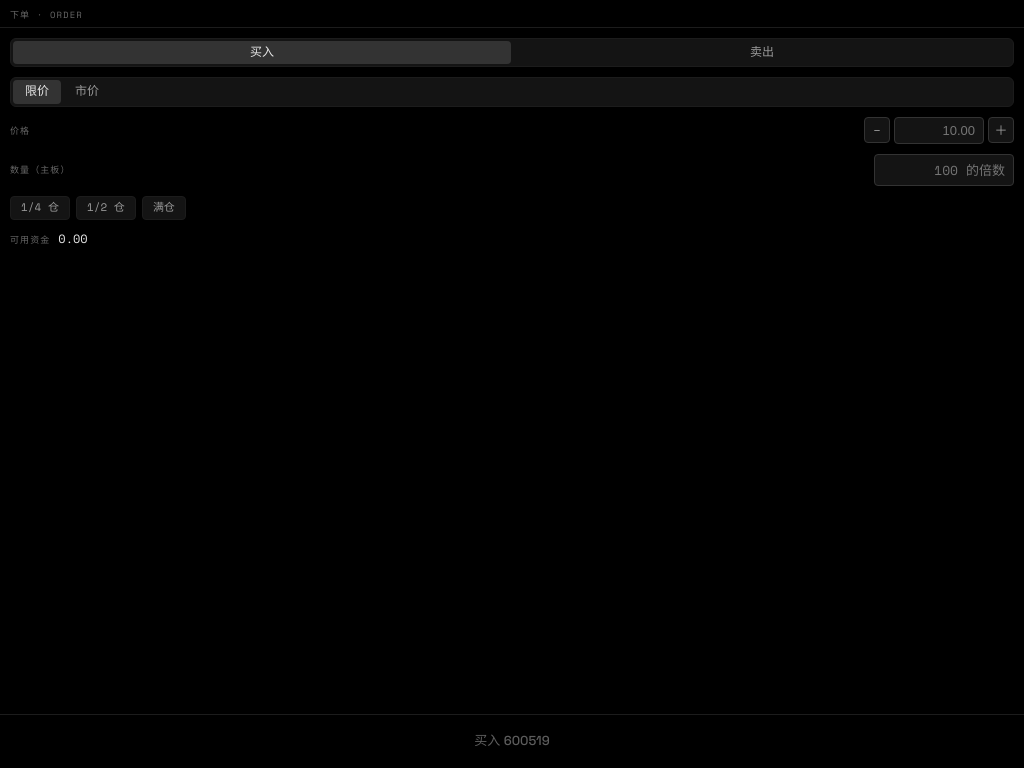
Test: 下单面板（01 §4.7） › 卖出侧：可卖口径扣 T+1 锁定
Click the button "卖出" at (762, 53), box [513,41,1011,64]
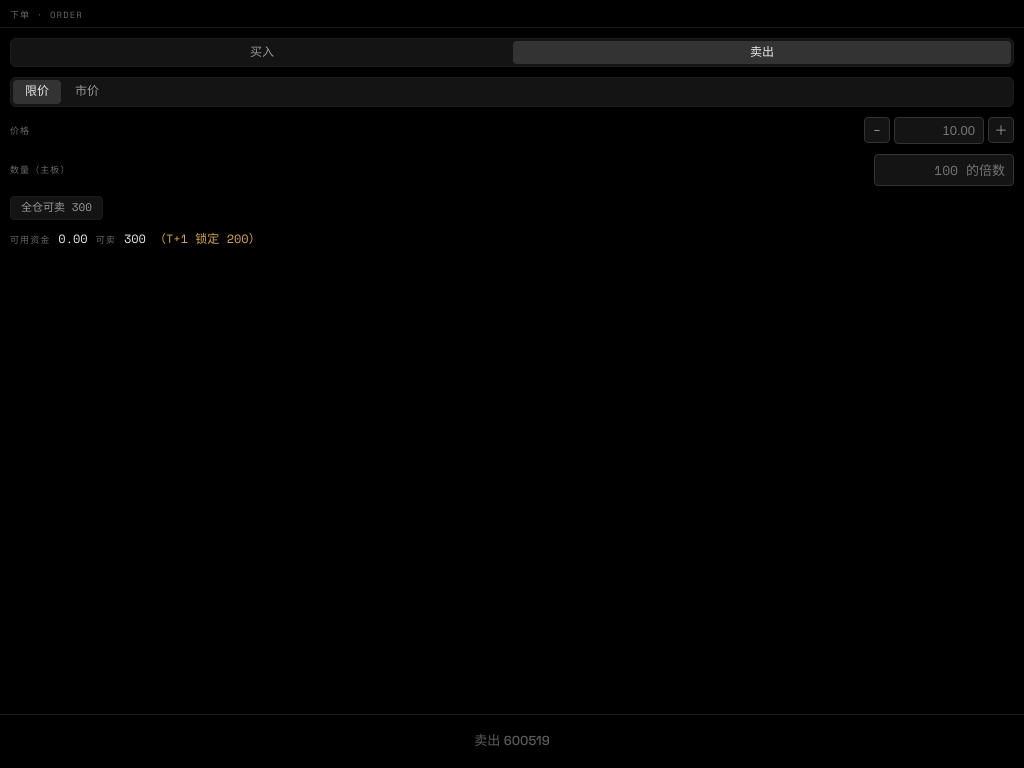
Check: the button "全仓可卖 300" is shown
Click the button "全仓可卖 300" at (56, 208), box [10,196,103,220]
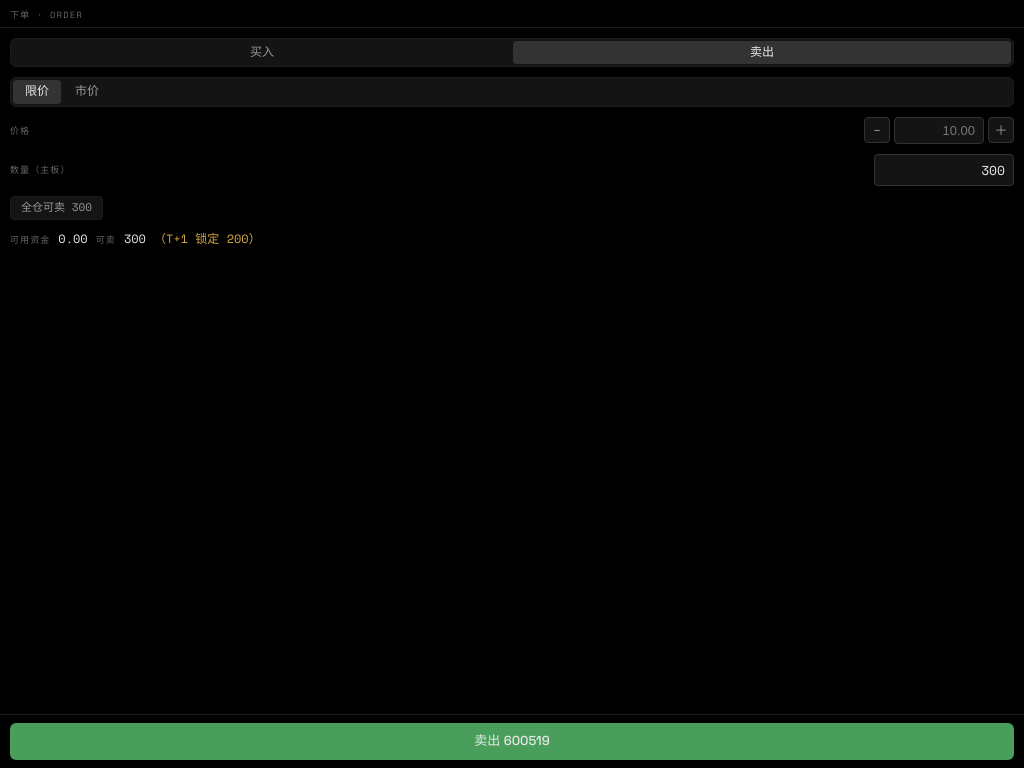
Check: the field showing "300" is shown
Replace the text in the field showing "300" with "400" at (944, 170), box [874,154,1014,186]
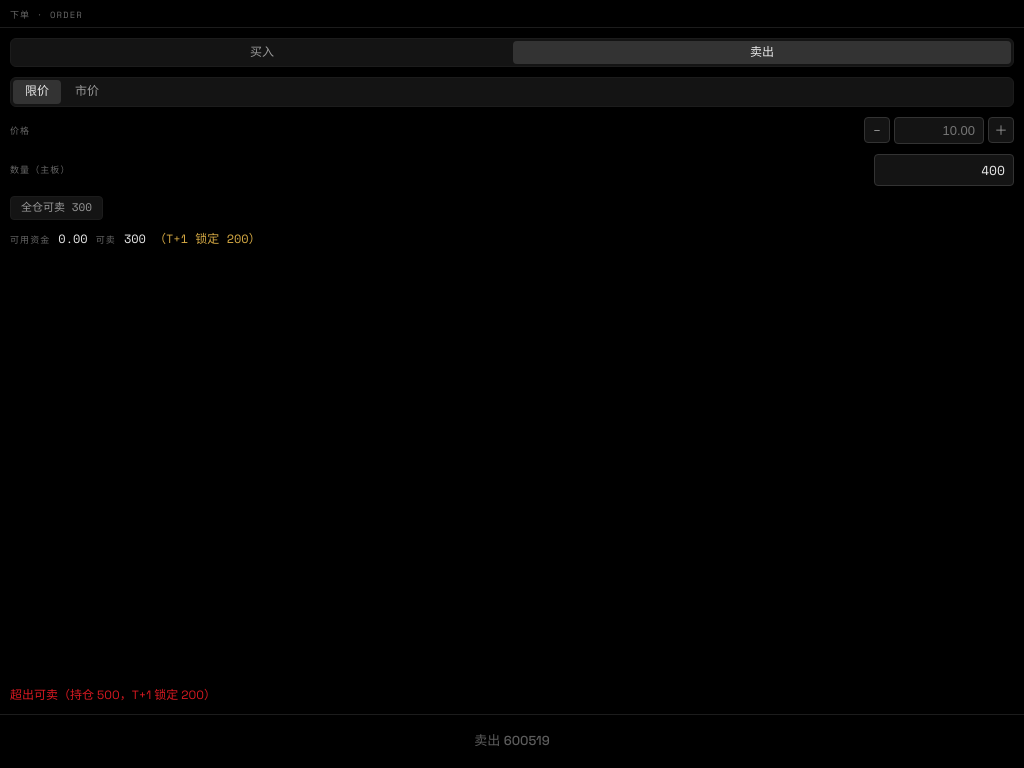
Check: the text "超出可卖（持仓 500，T+1 锁定 200）" is shown, box [10,687,216,703]
